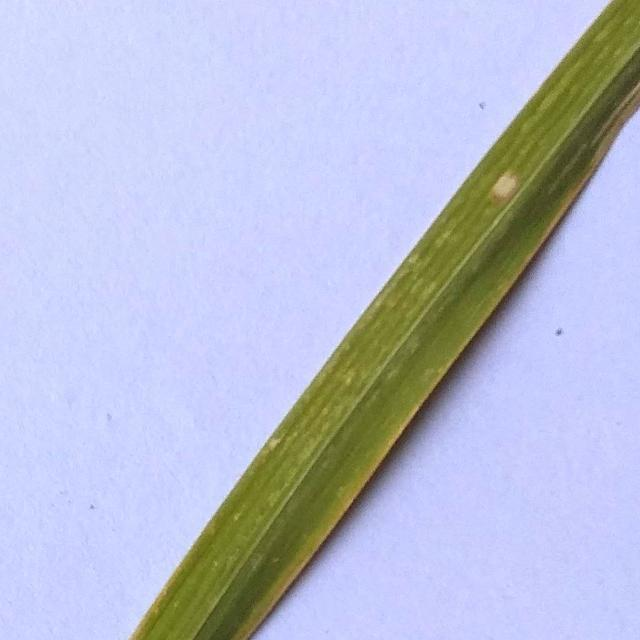Blast: (487, 173, 520, 200)
